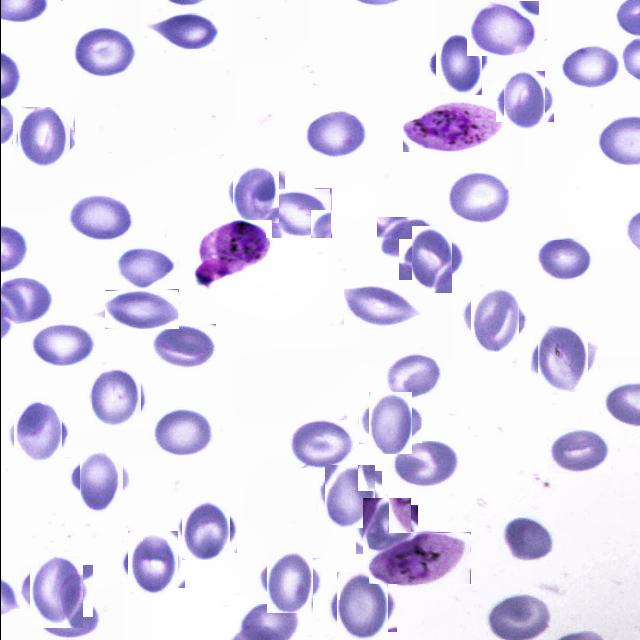difficult: (368, 532, 470, 584), (197, 220, 271, 272)
red blood cell: (466, 0, 539, 56), (24, 560, 87, 623), (531, 327, 592, 387), (332, 576, 392, 636), (447, 171, 513, 224), (8, 404, 66, 462), (343, 286, 423, 328), (14, 110, 72, 167), (264, 188, 330, 238), (303, 108, 368, 158), (124, 534, 181, 591), (321, 468, 378, 525), (391, 442, 460, 489), (66, 195, 133, 243), (358, 502, 414, 558), (466, 292, 522, 348), (152, 408, 214, 458), (34, 594, 101, 640), (88, 371, 143, 427), (73, 453, 128, 509), (74, 27, 134, 78), (150, 324, 215, 370), (290, 420, 352, 468), (430, 36, 485, 90), (261, 554, 316, 608), (104, 290, 178, 330), (178, 502, 232, 556), (404, 232, 458, 286), (363, 396, 416, 449), (547, 430, 610, 474), (228, 168, 280, 220), (383, 353, 443, 398), (146, 14, 223, 49), (32, 322, 92, 366), (116, 246, 176, 290), (560, 45, 620, 88), (500, 517, 554, 564), (498, 76, 548, 126), (376, 217, 434, 259), (534, 240, 592, 281)
trophozoite: (400, 101, 502, 152)
